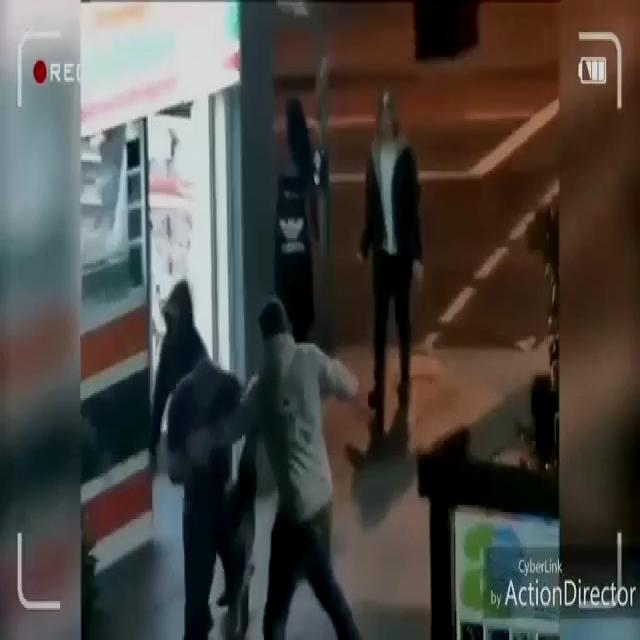fight: (166, 295, 338, 640)
